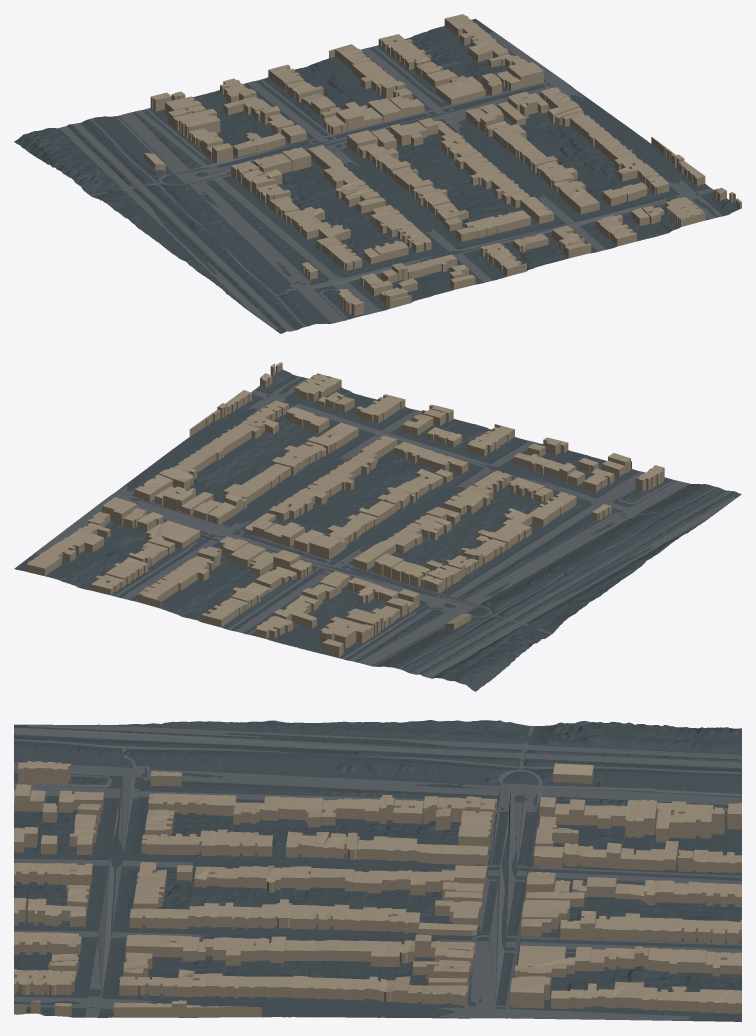
File: epsg26910-1415-10878.lod0.glb
3 renders of one model, top to bottom at view 1: azimuth 30°, elevation 25°; view 2: azimuth 150°, elevation 25°; view 3: azimuth 270°, elevation 25°, orthographic. The views are drawn at different scales.
Parts seen in each view (by area): view 1: epsg26910-1415-10878-lod0; view 2: epsg26910-1415-10878-lod0; view 3: epsg26910-1415-10878-lod0.
Part boxes in pixels (x1,y1,x2,y2): epsg26910-1415-10878-lod0: [14, 14, 741, 333]; epsg26910-1415-10878-lod0: [14, 362, 741, 691]; epsg26910-1415-10878-lod0: [14, 720, 741, 1021].
Size of the model in its own units: 384 by 20.24 by 384.
